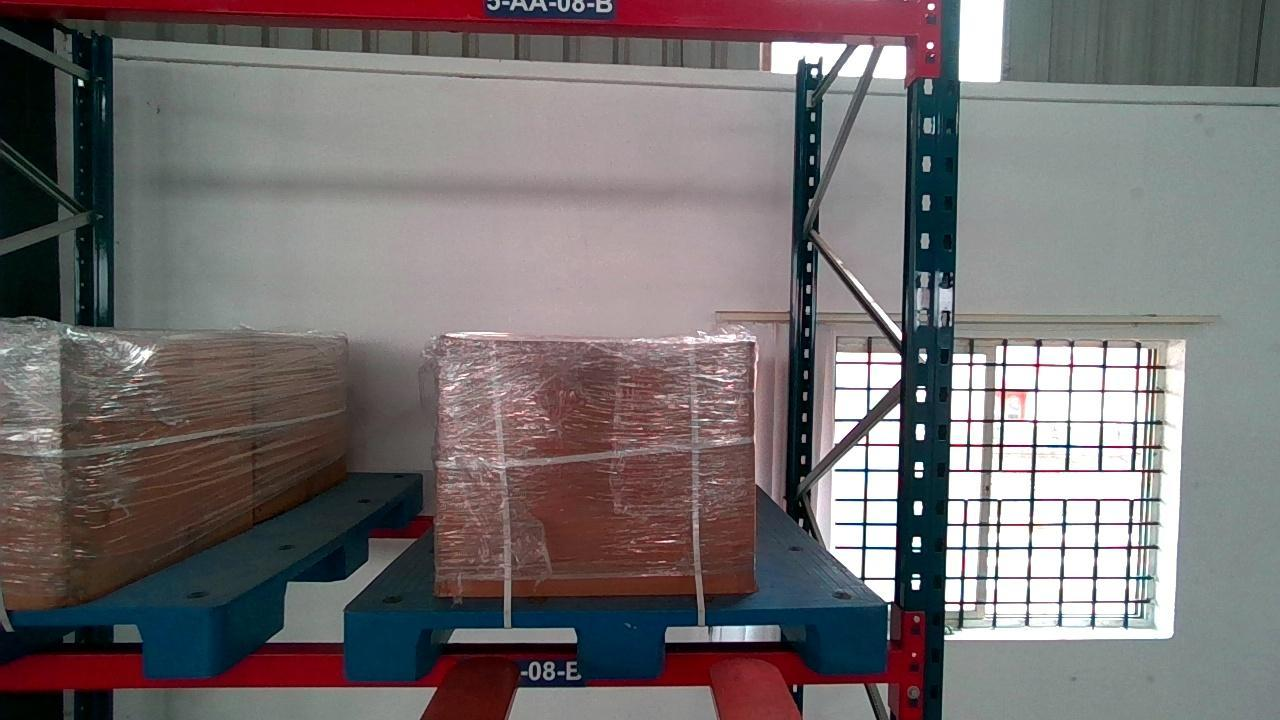h_rack: (0, 648, 922, 689), (2, 0, 931, 37)
small_pallet: (346, 606, 885, 674)
